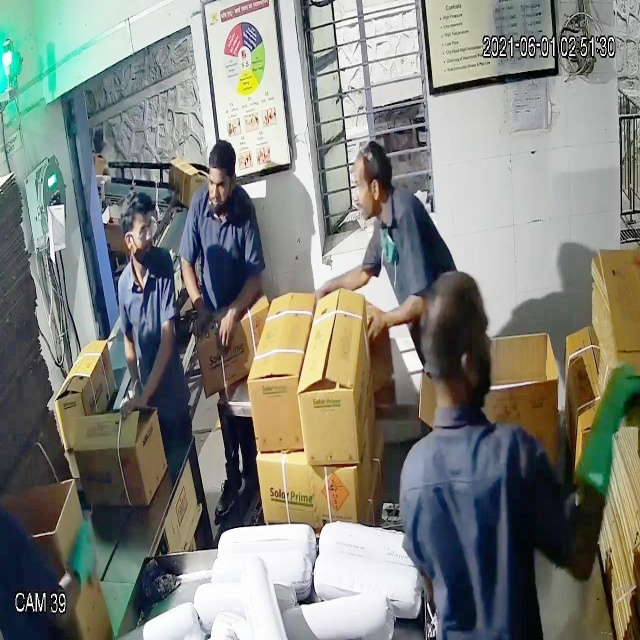Gafas: (120, 213, 158, 253)
Sin_gafas: (346, 171, 389, 204)
